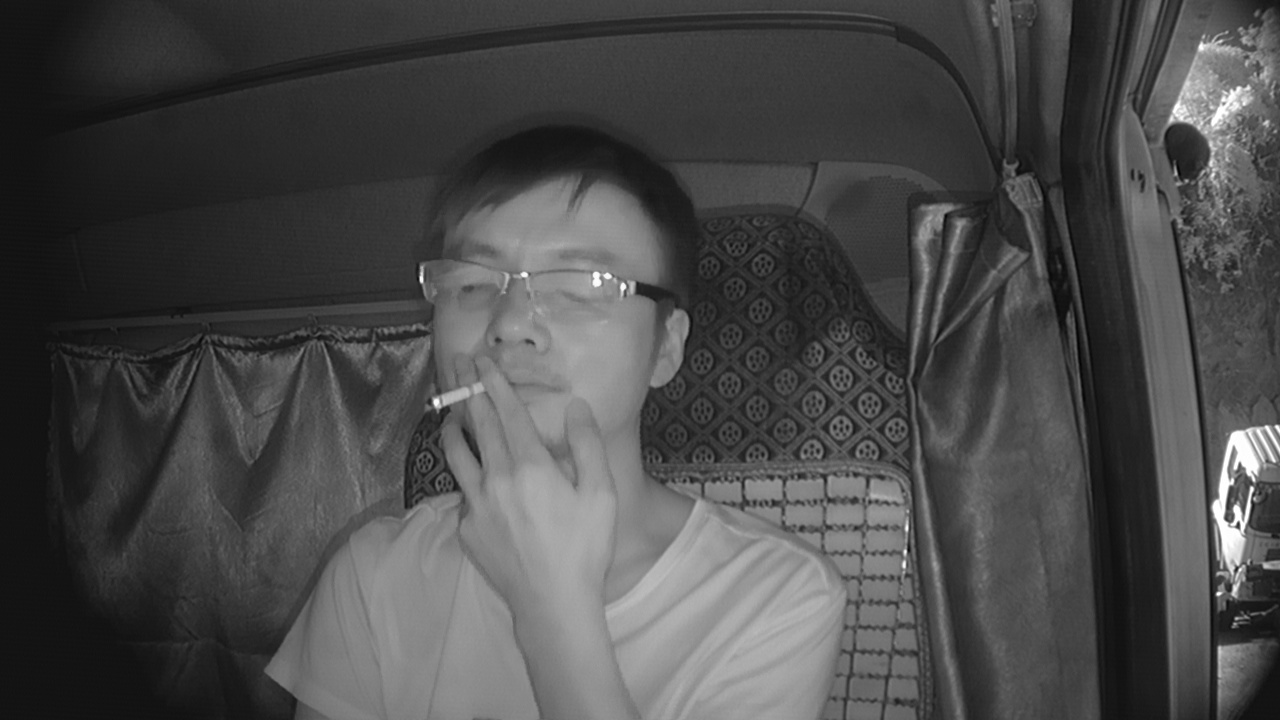hand: (429, 354, 621, 589)
